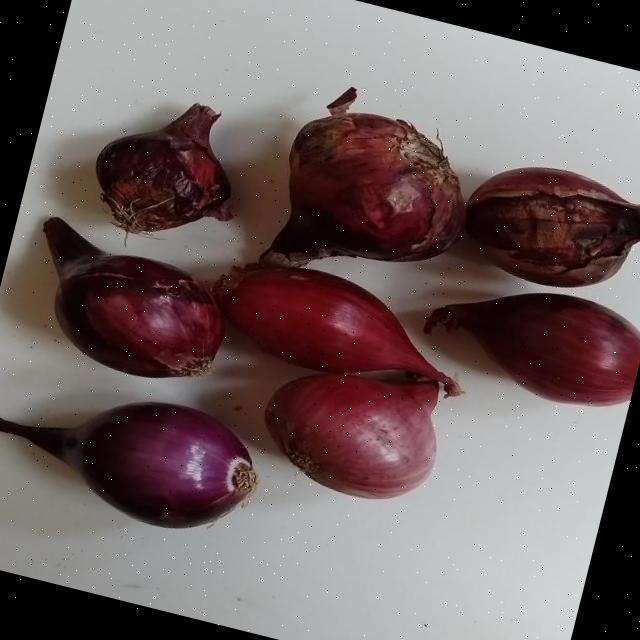Onion: (0, 401, 255, 526), (213, 265, 460, 394), (259, 110, 464, 264), (40, 215, 222, 375), (263, 372, 438, 498), (445, 292, 640, 405), (465, 165, 640, 284), (93, 101, 228, 230)
